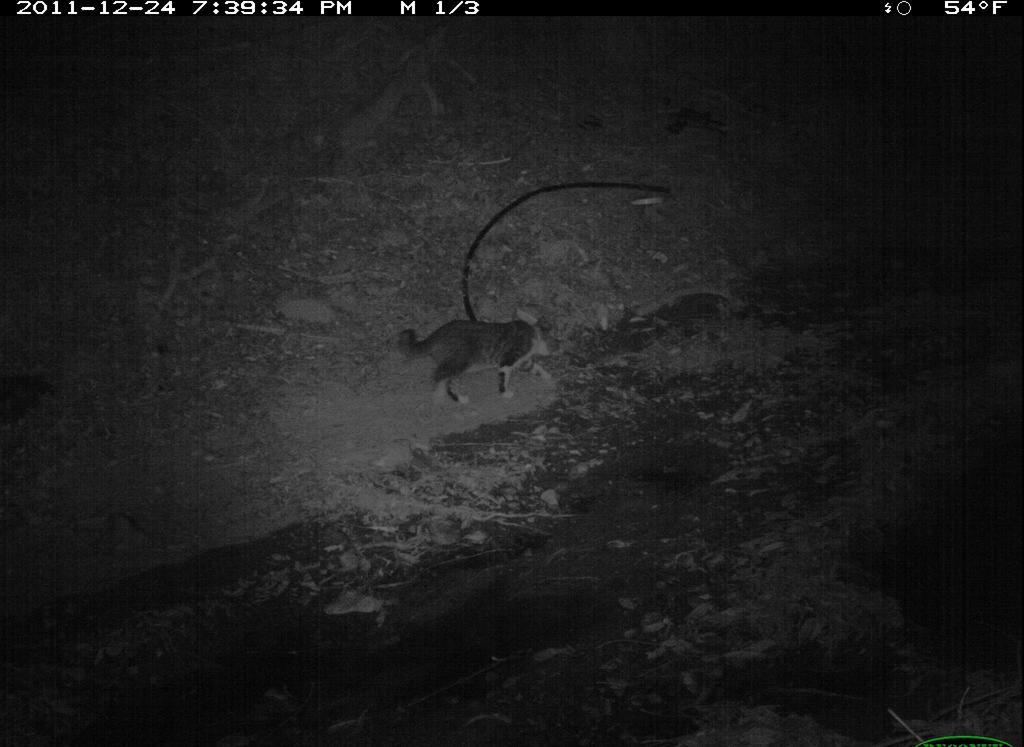cat: (388, 301, 588, 429)
